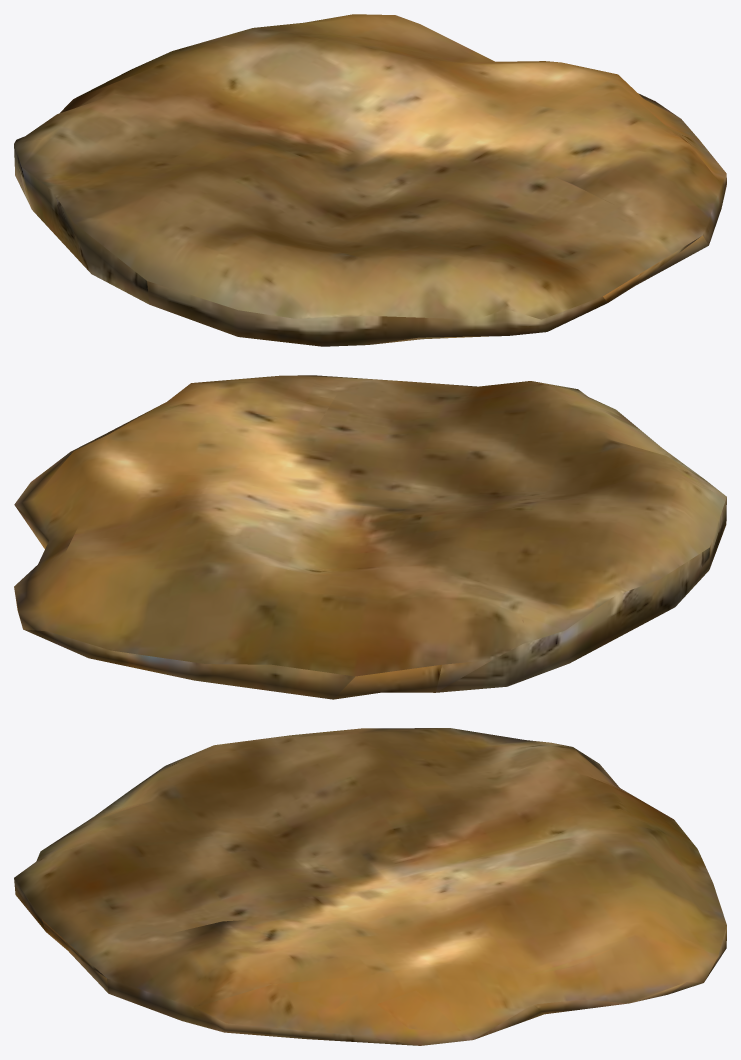
The model's file is sauce-burger.glb.
The picture shows the model from 3 angles, top to bottom: view 1: azimuth 30°, elevation 25°; view 2: azimuth 150°, elevation 25°; view 3: azimuth 270°, elevation 25°; orthographic projection. The views are drawn at different scales.
Visible parts, largest first — view 1: sauce-burger; view 2: sauce-burger; view 3: sauce-burger.
Boxes of the visible parts, x1,y1,x2,y2 form: sauce-burger: (14, 14, 726, 346); sauce-burger: (14, 375, 726, 699); sauce-burger: (14, 728, 726, 1045).
Size of the model in its own units: 6.26 by 0.8681 by 6.7.
Materials: 1 (1 with a texture image).
